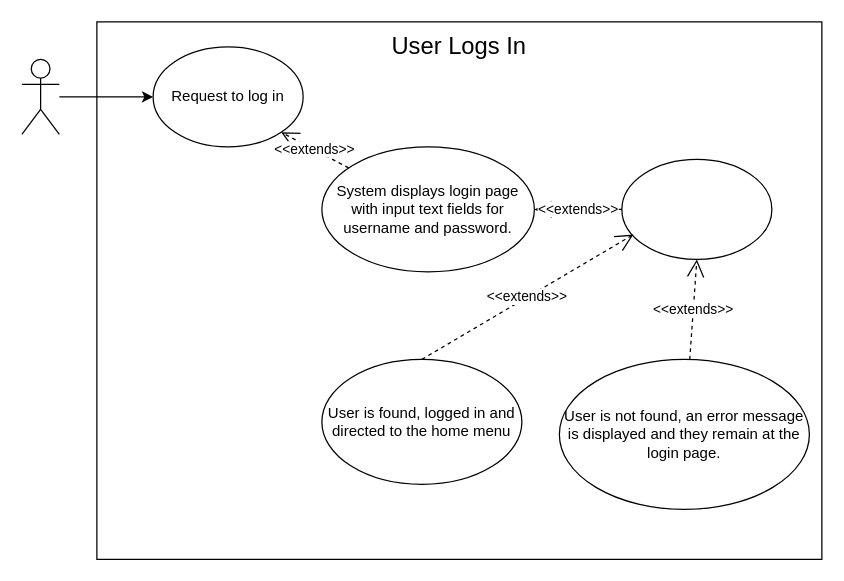
Image size: 844x581. Some labels were removed from this diagram. Here are the shapes that lost their labels. From the top down, the centre of each, then its label:
At point 40,96: "User".
At point 696,208: "Query database for users account".
